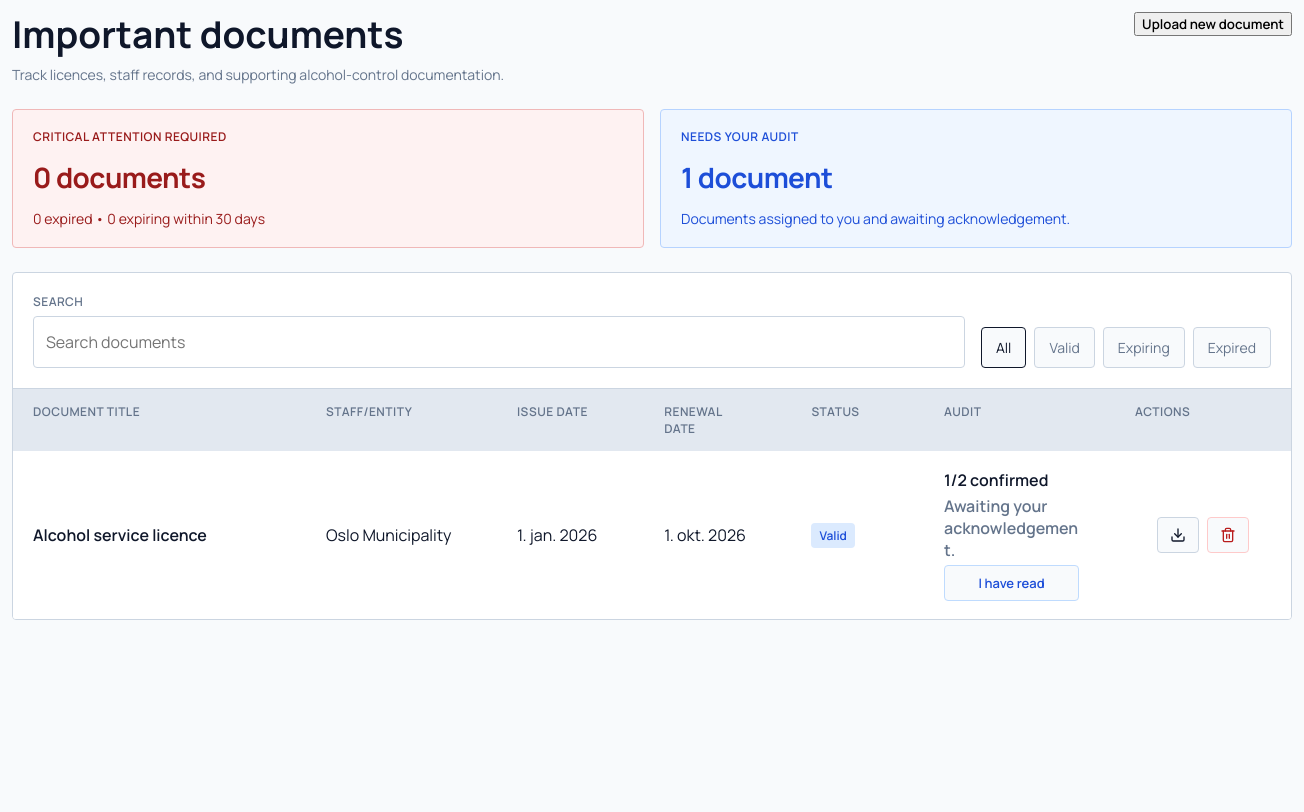
it: DocumentsPage › shows and handles the I have read action for an assigned user
This screenshot has width=1304, height=812.
What coordinates should you click on to do the following:
click the button with class "document-action-button-acknowledge"
I would click on:
 (1012, 583)
Its box is [944,565,1079,601].
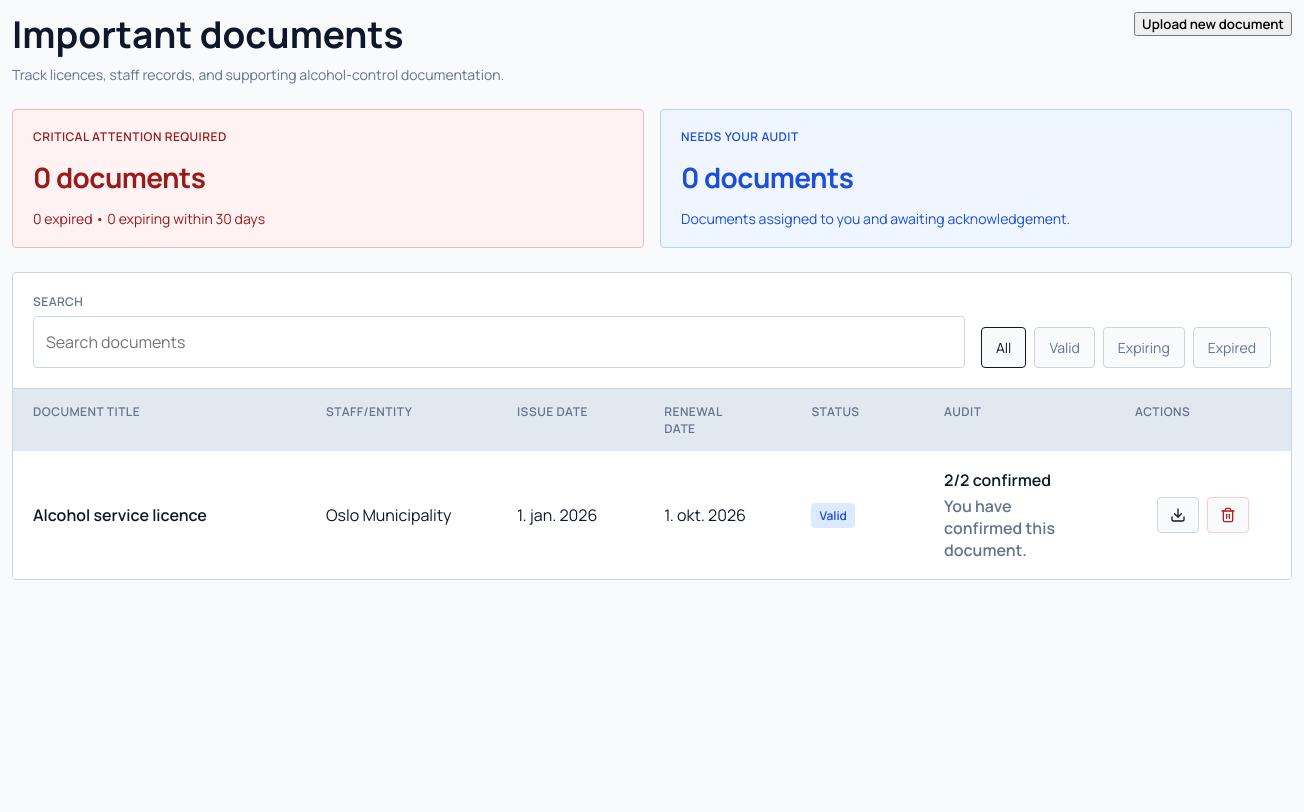
Check: the text "I have read" is gone
Check: the text "2/2 confirmed" is shown, box [944,469,1051,491]
Check: the text "You have confirmed this document." is shown, box [944,495,1055,561]
